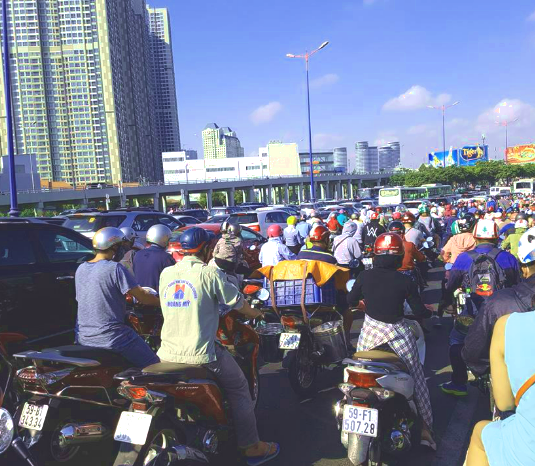Bien-so: (133, 410, 173, 447), (357, 387, 393, 422), (40, 406, 73, 439), (290, 320, 314, 342)
